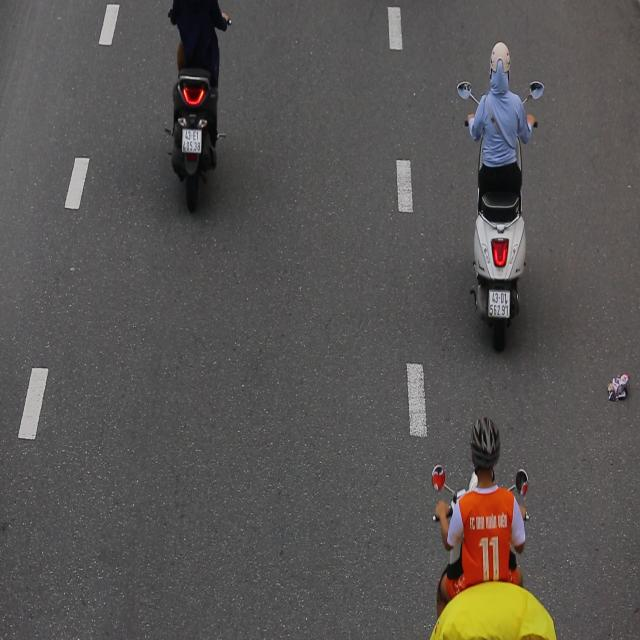motorbike: (454, 30, 548, 358)
